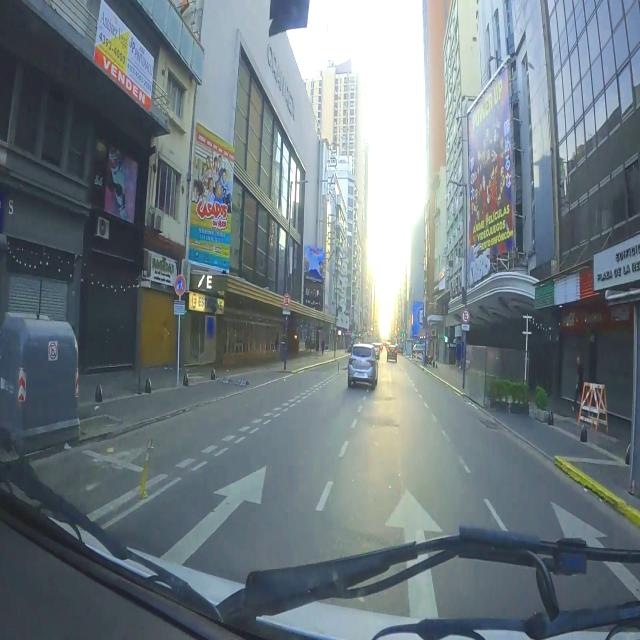car: (348, 344, 378, 388), (387, 344, 397, 362), (373, 343, 382, 359)
